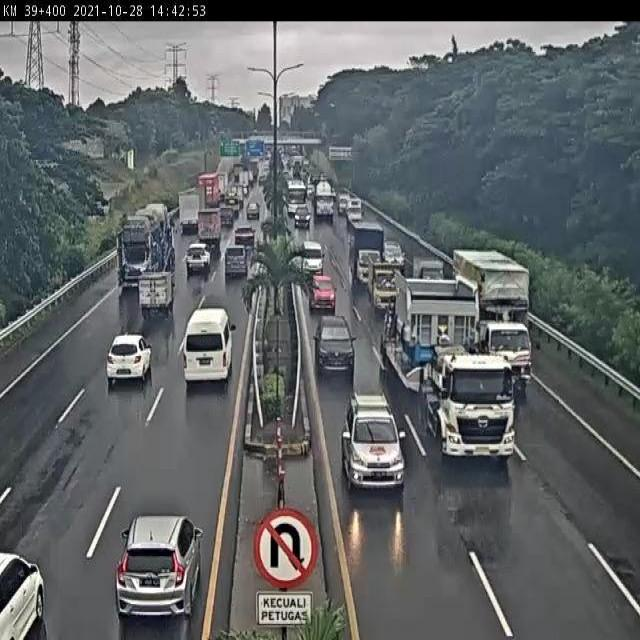big truck: (380, 275, 516, 457), (452, 247, 533, 389), (117, 199, 177, 285)
car: (116, 519, 201, 617), (341, 392, 409, 491), (182, 311, 236, 378), (104, 329, 153, 383), (315, 314, 356, 378), (409, 256, 447, 287), (307, 274, 338, 310), (300, 239, 326, 276), (185, 245, 213, 276), (382, 235, 403, 269), (224, 247, 247, 273)
small truck: (347, 218, 389, 282), (367, 262, 407, 310), (137, 273, 175, 316)
